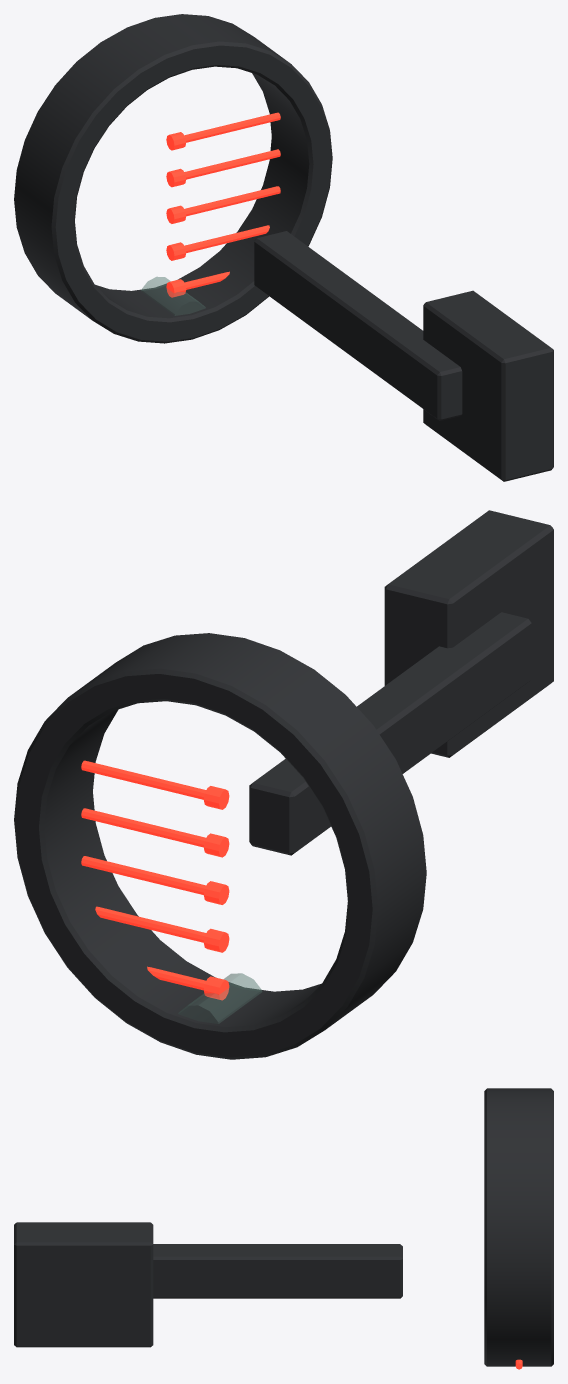
File: mod_thorn_five_pin_sight.glb
The picture shows the model from 3 angles, top to bottom: view 1: azimuth 30°, elevation 25°; view 2: azimuth 150°, elevation 25°; view 3: azimuth 270°, elevation 25°; orthographic projection. The views are drawn at different scales.
Visible parts, largest first — view 1: PinSight, PinSightPins, PinSightLevel; view 2: PinSight, PinSightPins, PinSightLevel; view 3: PinSight.
Part boxes in pixels (<box>): PinSight: <box>14,14,553,481</box>; PinSightPins: <box>166,112,280,297</box>; PinSightLevel: <box>141,276,205,315</box>; PinSight: <box>14,510,553,1059</box>; PinSightPins: <box>81,760,229,1000</box>; PinSightLevel: <box>178,973,262,1023</box>; PinSight: <box>14,1088,553,1366</box>.
Bounding box in the file's own units: 0.048 × 0.048 × 0.093.
